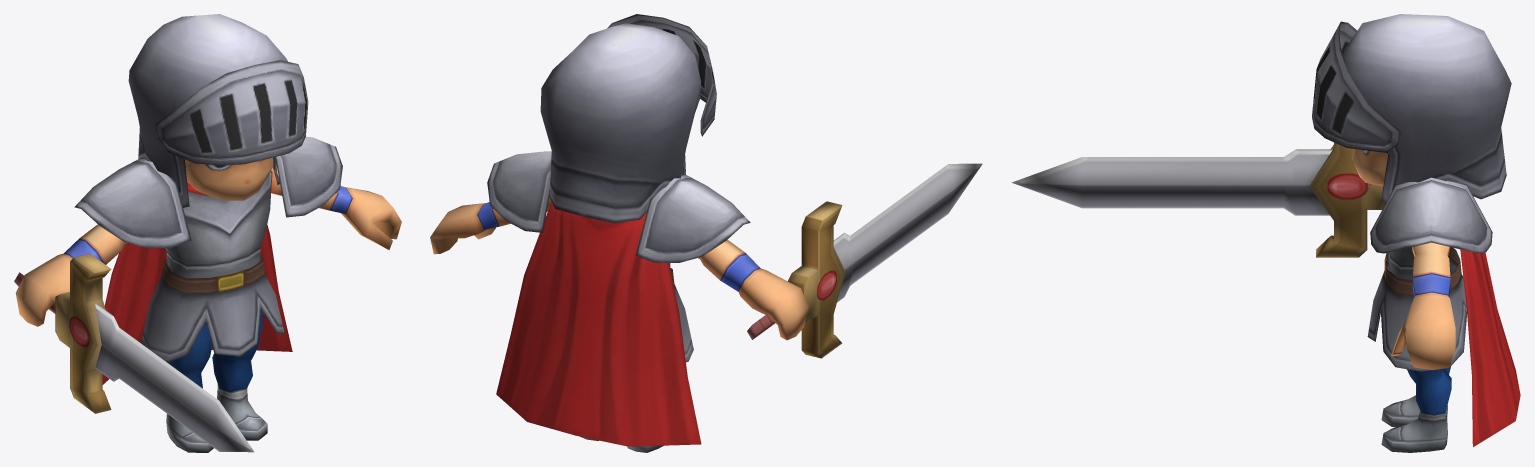
Rendered from gisa.FBX.
3 views of the same model, side by side, from view 1: azimuth 30°, elevation 25°; view 2: azimuth 150°, elevation 25°; view 3: azimuth 270°, elevation 25° (orthographic). The views are drawn at different scales.
Parts seen in each view (by area): view 1: Object158; view 2: Object158; view 3: Object158.
Part boxes in pixels (box(x1,y1,x2,y2)): Object158: box(14, 14, 401, 452); Object158: box(430, 14, 982, 452); Object158: box(1012, 14, 1520, 452).
Size of the model in its own units: 113 by 134 by 120.
